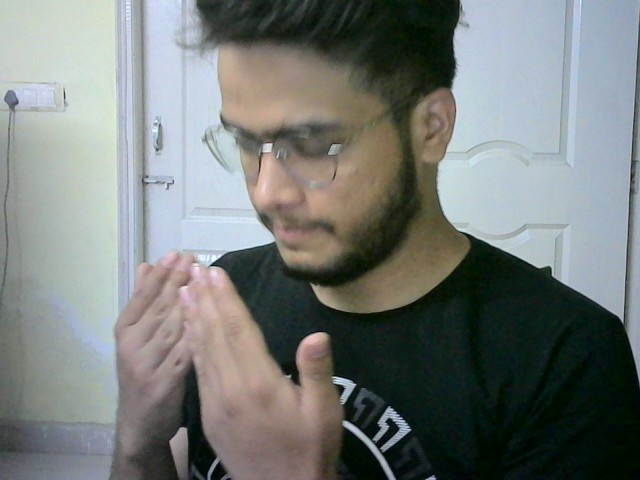Thank You: (104, 250, 353, 469)
